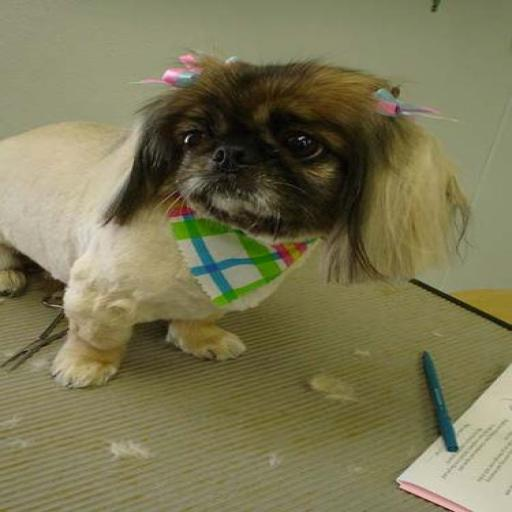dog_face: (129, 62, 481, 261)
